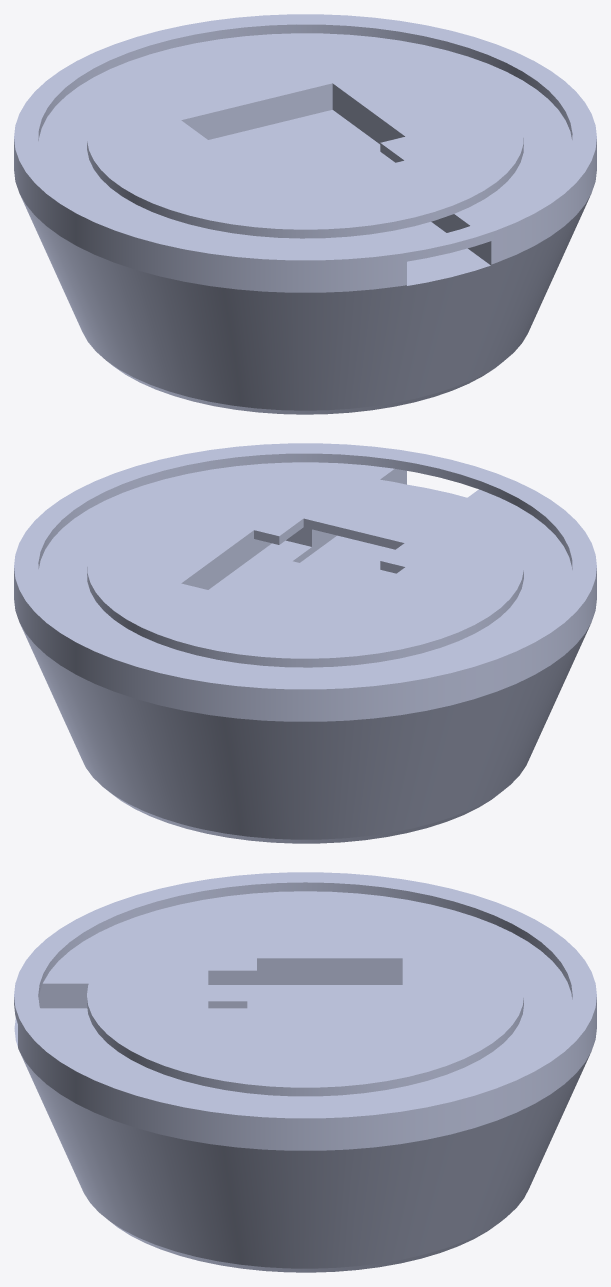
Rendered from phoneholder.glb.
The picture shows the model from 3 angles, top to bottom: view 1: azimuth 30°, elevation 25°; view 2: azimuth 150°, elevation 25°; view 3: azimuth 270°, elevation 25°; orthographic projection.
Visible parts, largest first — view 1: Phone holder; view 2: Phone holder; view 3: Phone holder.
Boxes of the visible parts, left/top/right/bottom form: Phone holder: left=14, top=14, right=596, bottom=414; Phone holder: left=14, top=443, right=596, bottom=843; Phone holder: left=14, top=872, right=596, bottom=1272.
Size of the model in its own units: 0.0599 by 0.021 by 0.06.
